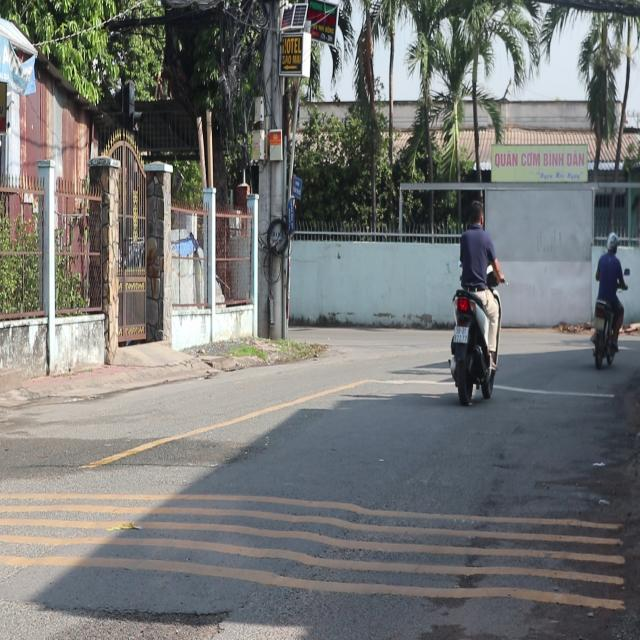licenseplate: (447, 198, 501, 402)
motorcyclist: (466, 197, 484, 226)
nohelmet: (452, 324, 468, 341)
